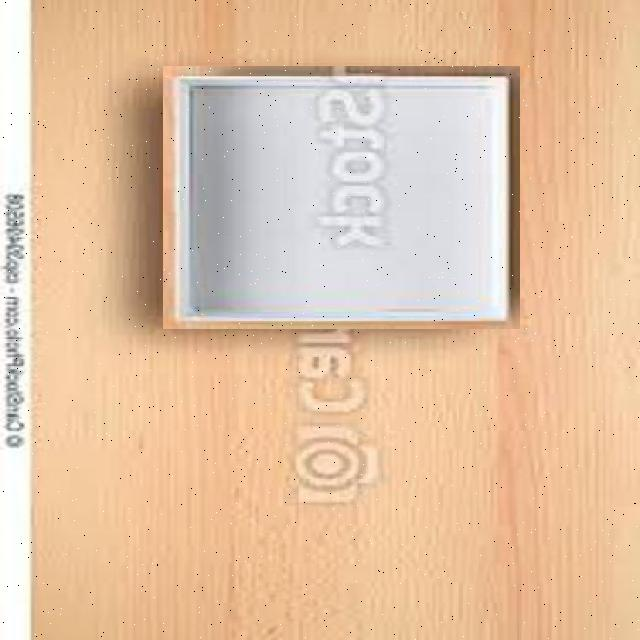normal: (163, 66, 520, 329)
